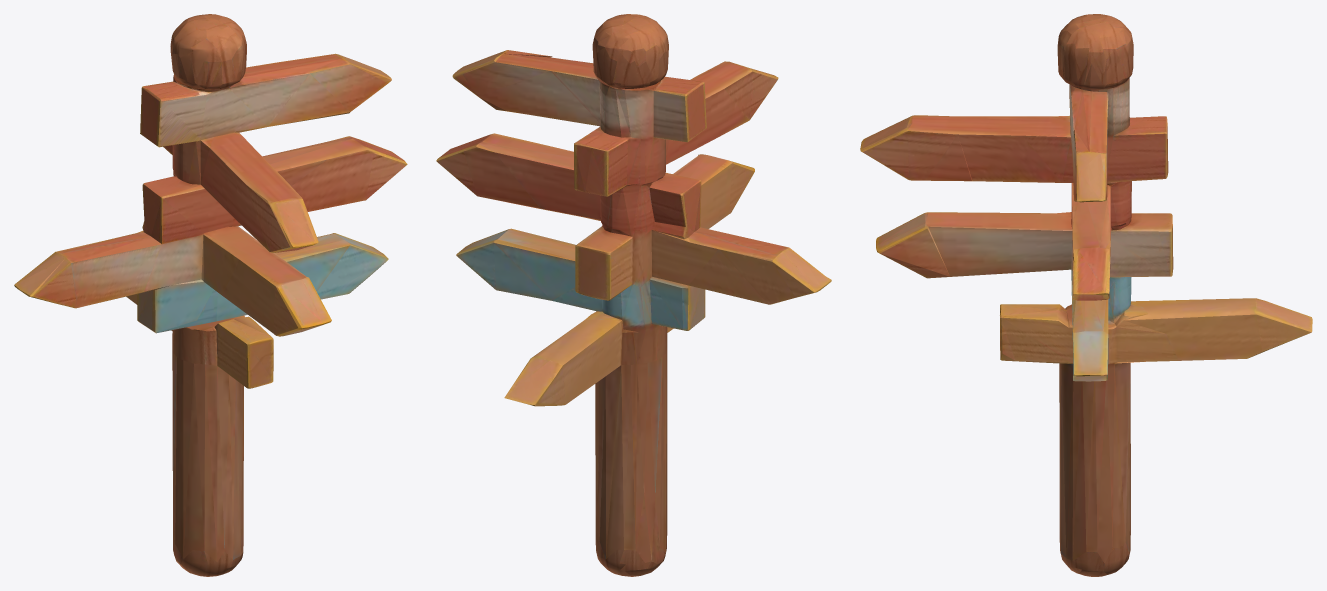
File: signpost.glb
3 renders of one model, left to right at view 1: azimuth 30°, elevation 25°; view 2: azimuth 150°, elevation 25°; view 3: azimuth 270°, elevation 25°, orthographic.
Size of the model in its own units: 1.37 by 1.9 by 1.41.
Materials: 1 (1 with a texture image).
